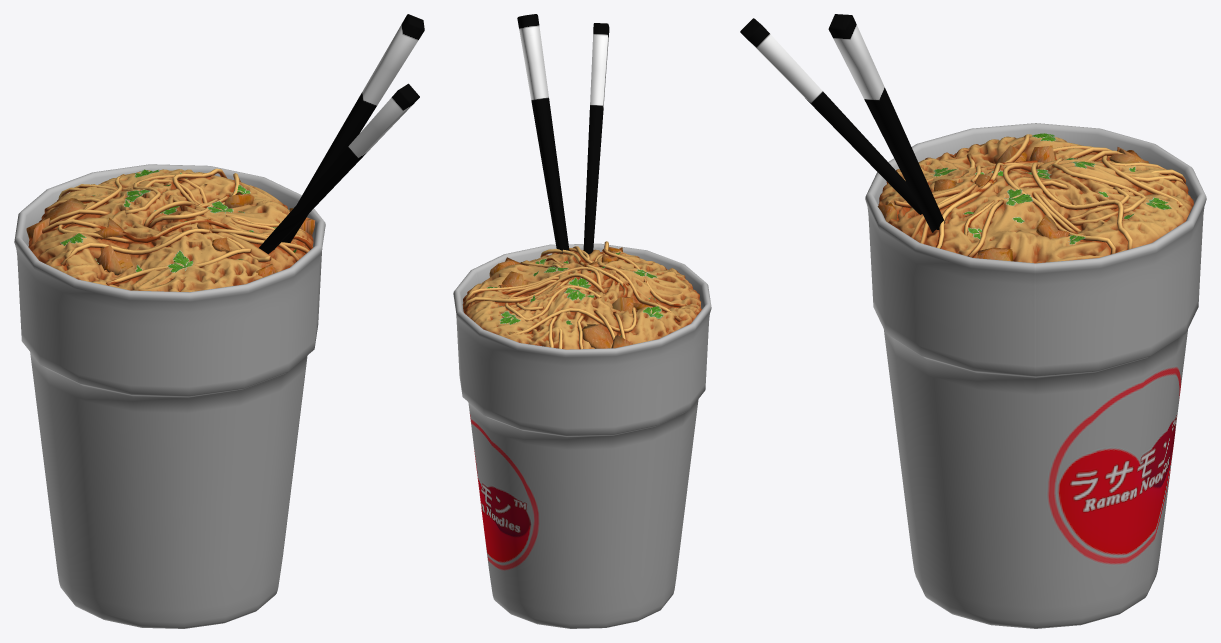
Rendered from instant.glb.
The picture shows the model from 3 angles, left to right: view 1: azimuth 30°, elevation 25°; view 2: azimuth 150°, elevation 25°; view 3: azimuth 270°, elevation 25°; orthographic projection. The views are drawn at different scales.
Visible parts, largest first — view 1: Object_3; view 2: Object_3; view 3: Object_3.
Part boxes in pixels (left/top/right/bottom): Object_3: left=14, top=14, right=424, bottom=628; Object_3: left=453, top=14, right=711, bottom=628; Object_3: left=740, top=14, right=1206, bottom=628.
Bounding box in the file's own units: 2.83 × 5.34 × 3.49.
1 material, 1 textured.
